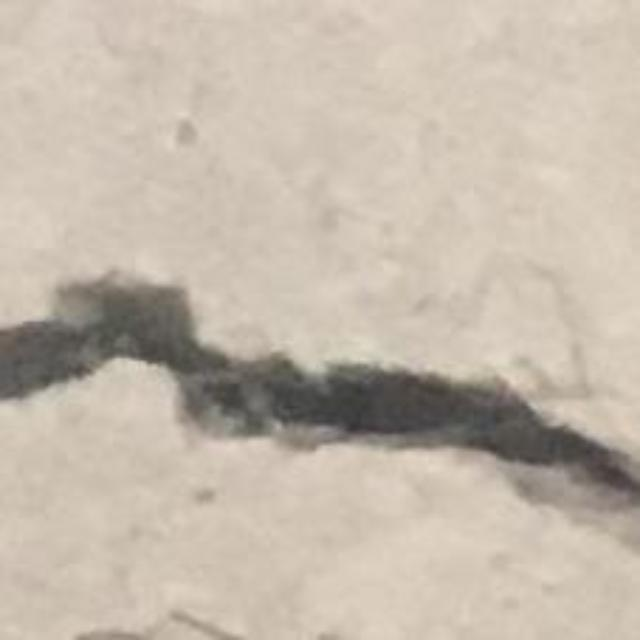crack: (0, 280, 639, 507)
